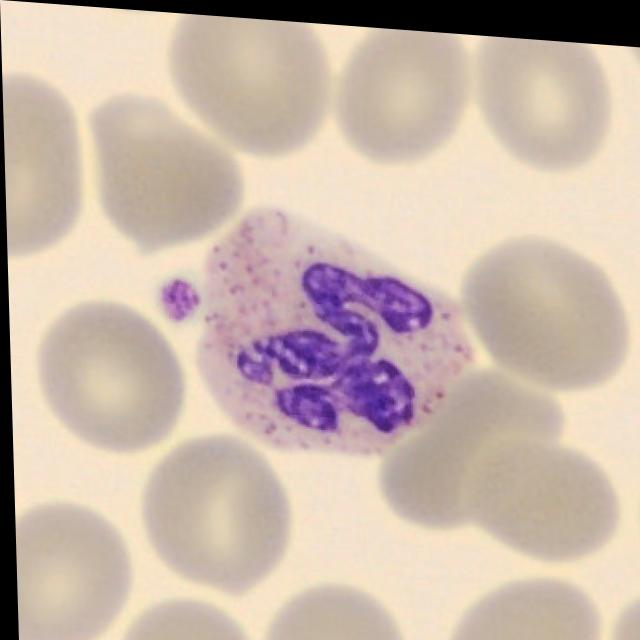Neutrofilo segmentado: (192, 203, 473, 452)
